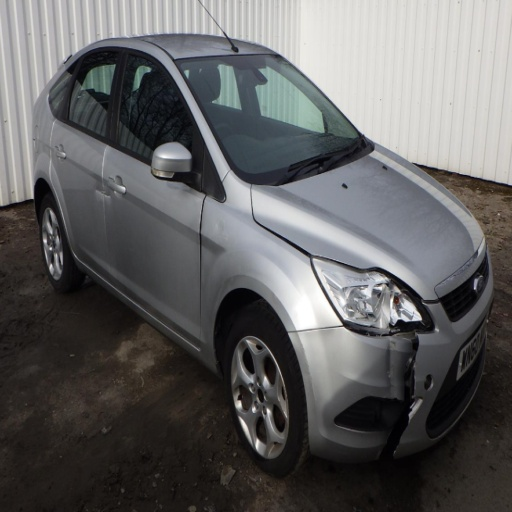dent: (383, 338, 397, 398), (93, 183, 111, 203)
rust: (213, 218, 228, 241)
